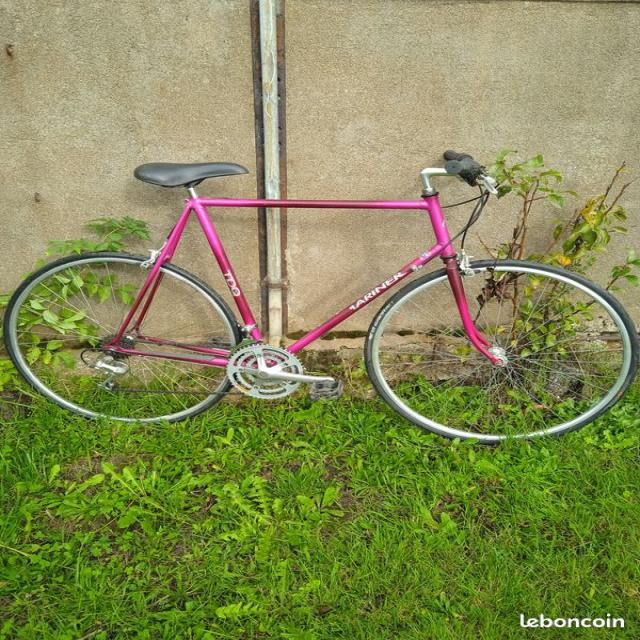Bike: (5, 151, 639, 444)
